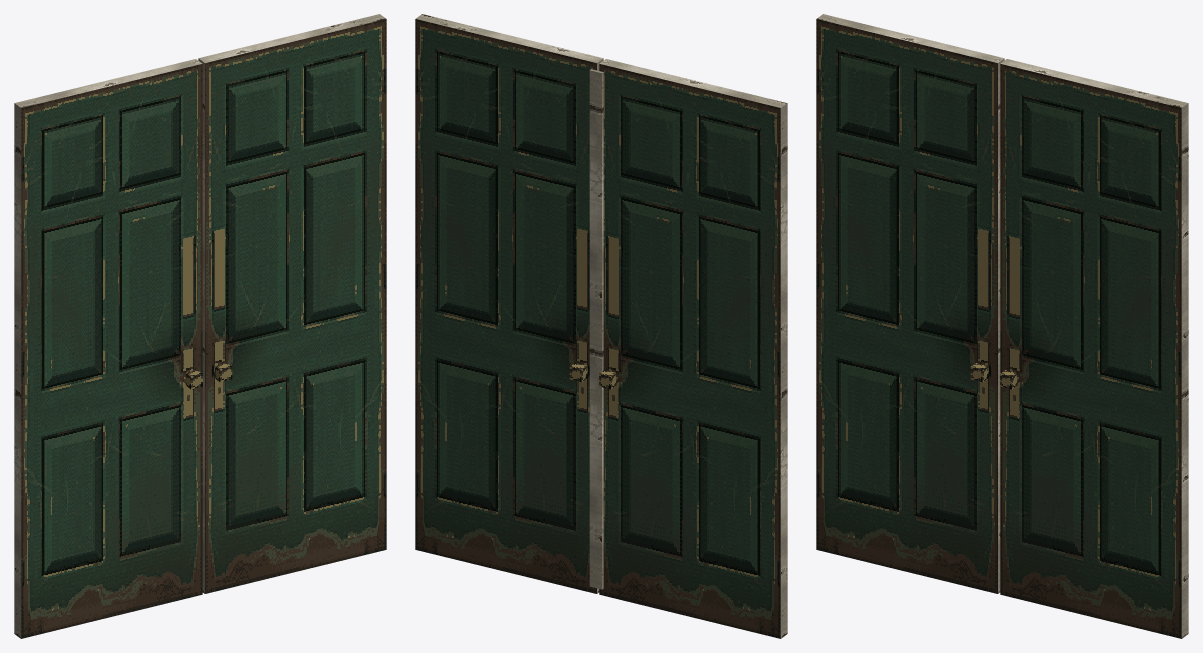
The model's file is house_door_double.glb.
The picture shows the model from 3 angles, left to right: view 1: azimuth 30°, elevation 25°; view 2: azimuth 150°, elevation 25°; view 3: azimuth 330°, elevation 25°; orthographic projection.
Parts seen in each view (by area): view 1: house_door_double; view 2: house_door_double; view 3: house_door_double.
Part boxes in pixels (x1=…): house_door_double: x1=14, y1=14, x2=386, y2=638; house_door_double: x1=415, y1=14, x2=787, y2=638; house_door_double: x1=816, y1=14, x2=1188, y2=638.
Size of the model in its own units: 1.57 by 2.18 by 0.166.
Materials: 2 (2 with a texture image).
